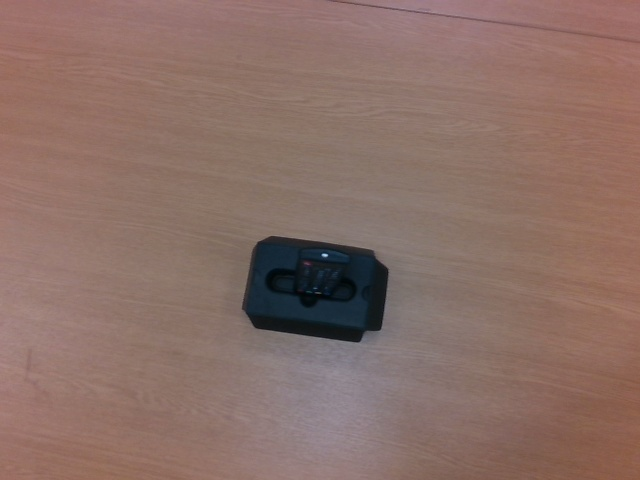remote: (292, 245, 350, 298)
